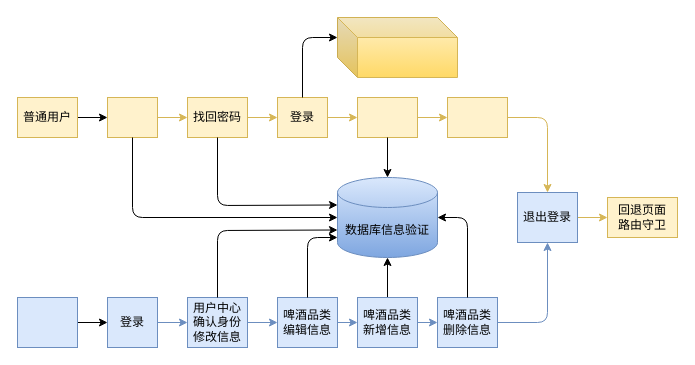
This 695x365 diagram has some shape labels left out. Each missing label, with the centre of its shape:
localStorage 持久化验证: the point at 397,47
啤酒品类 查询信息: the point at 477,117
注册: the point at 132,117
用户中心 修改信息: the point at 387,117
管理员: the point at 47,322
